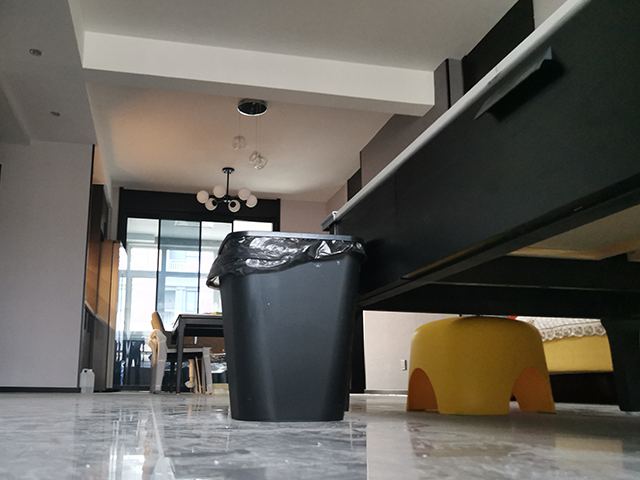cabinet: (1, 141, 119, 394)
stool: (403, 315, 557, 417), (147, 309, 212, 395)
table: (320, 1, 640, 412), (171, 312, 224, 393)
trashcan: (214, 230, 365, 423)
